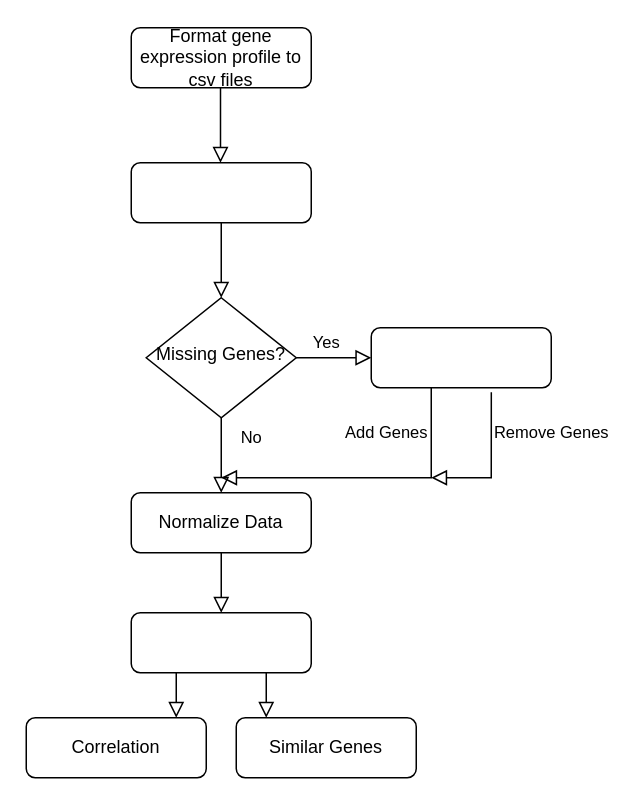
Image size: 635x804. Some labels were removed from this diagram. Here are the shapes that lost their labels. From the top down, the centre of each, then its label:
At point 220,192: "Feed cancer samples into TCGA Matchmaker".
At point 460,357: "Add or Remove missing genes?".
At point 220,642: "Analyze Data".
